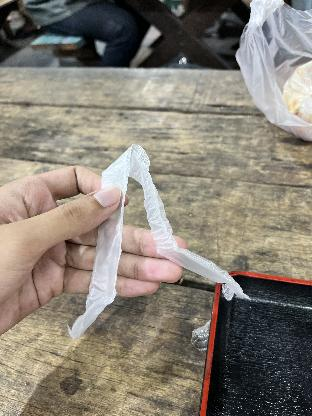Others: (67, 143, 251, 340), (236, 0, 312, 142), (192, 312, 210, 354)
